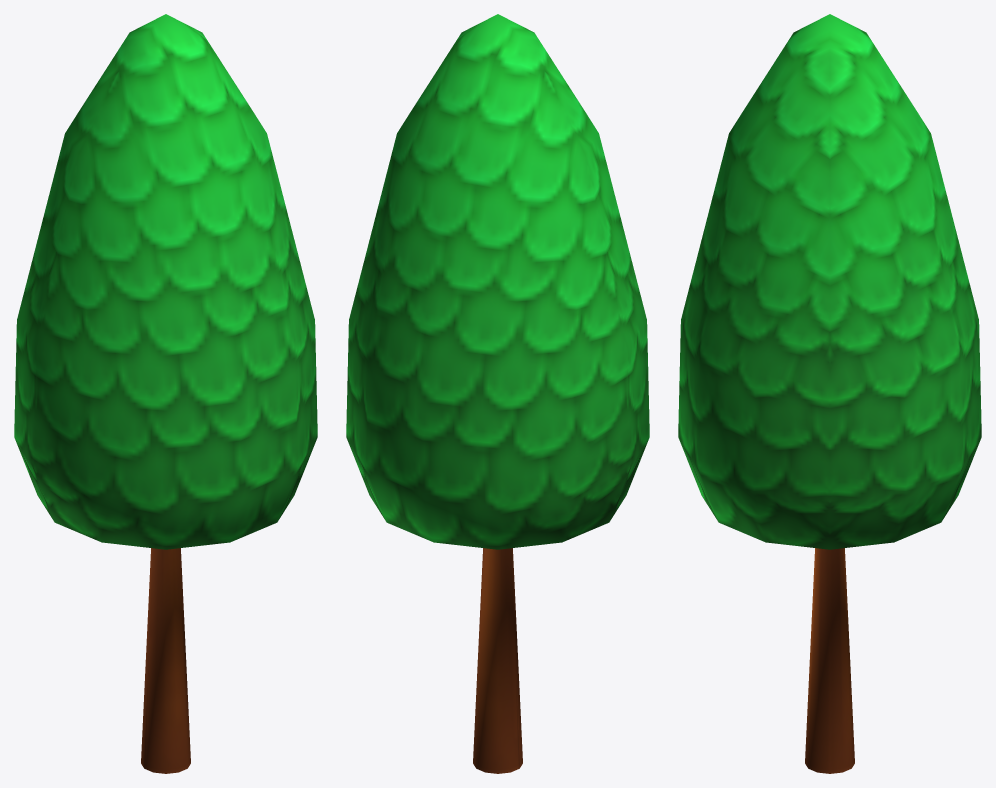
File: Tree.FBX
3 views of the same model, side by side, from view 1: azimuth 30°, elevation 25°; view 2: azimuth 150°, elevation 25°; view 3: azimuth 270°, elevation 25° (orthographic).
Parts seen in each view (by area): view 1: Tree_02; view 2: Tree_02; view 3: Tree_02.
Part boxes in pixels (box(x1,y1,x2,y2)): Tree_02: box(14, 14, 317, 773); Tree_02: box(346, 14, 649, 773); Tree_02: box(678, 14, 981, 773).
Bounding box in the file's own units: 21.45 × 58.43 × 21.45.
